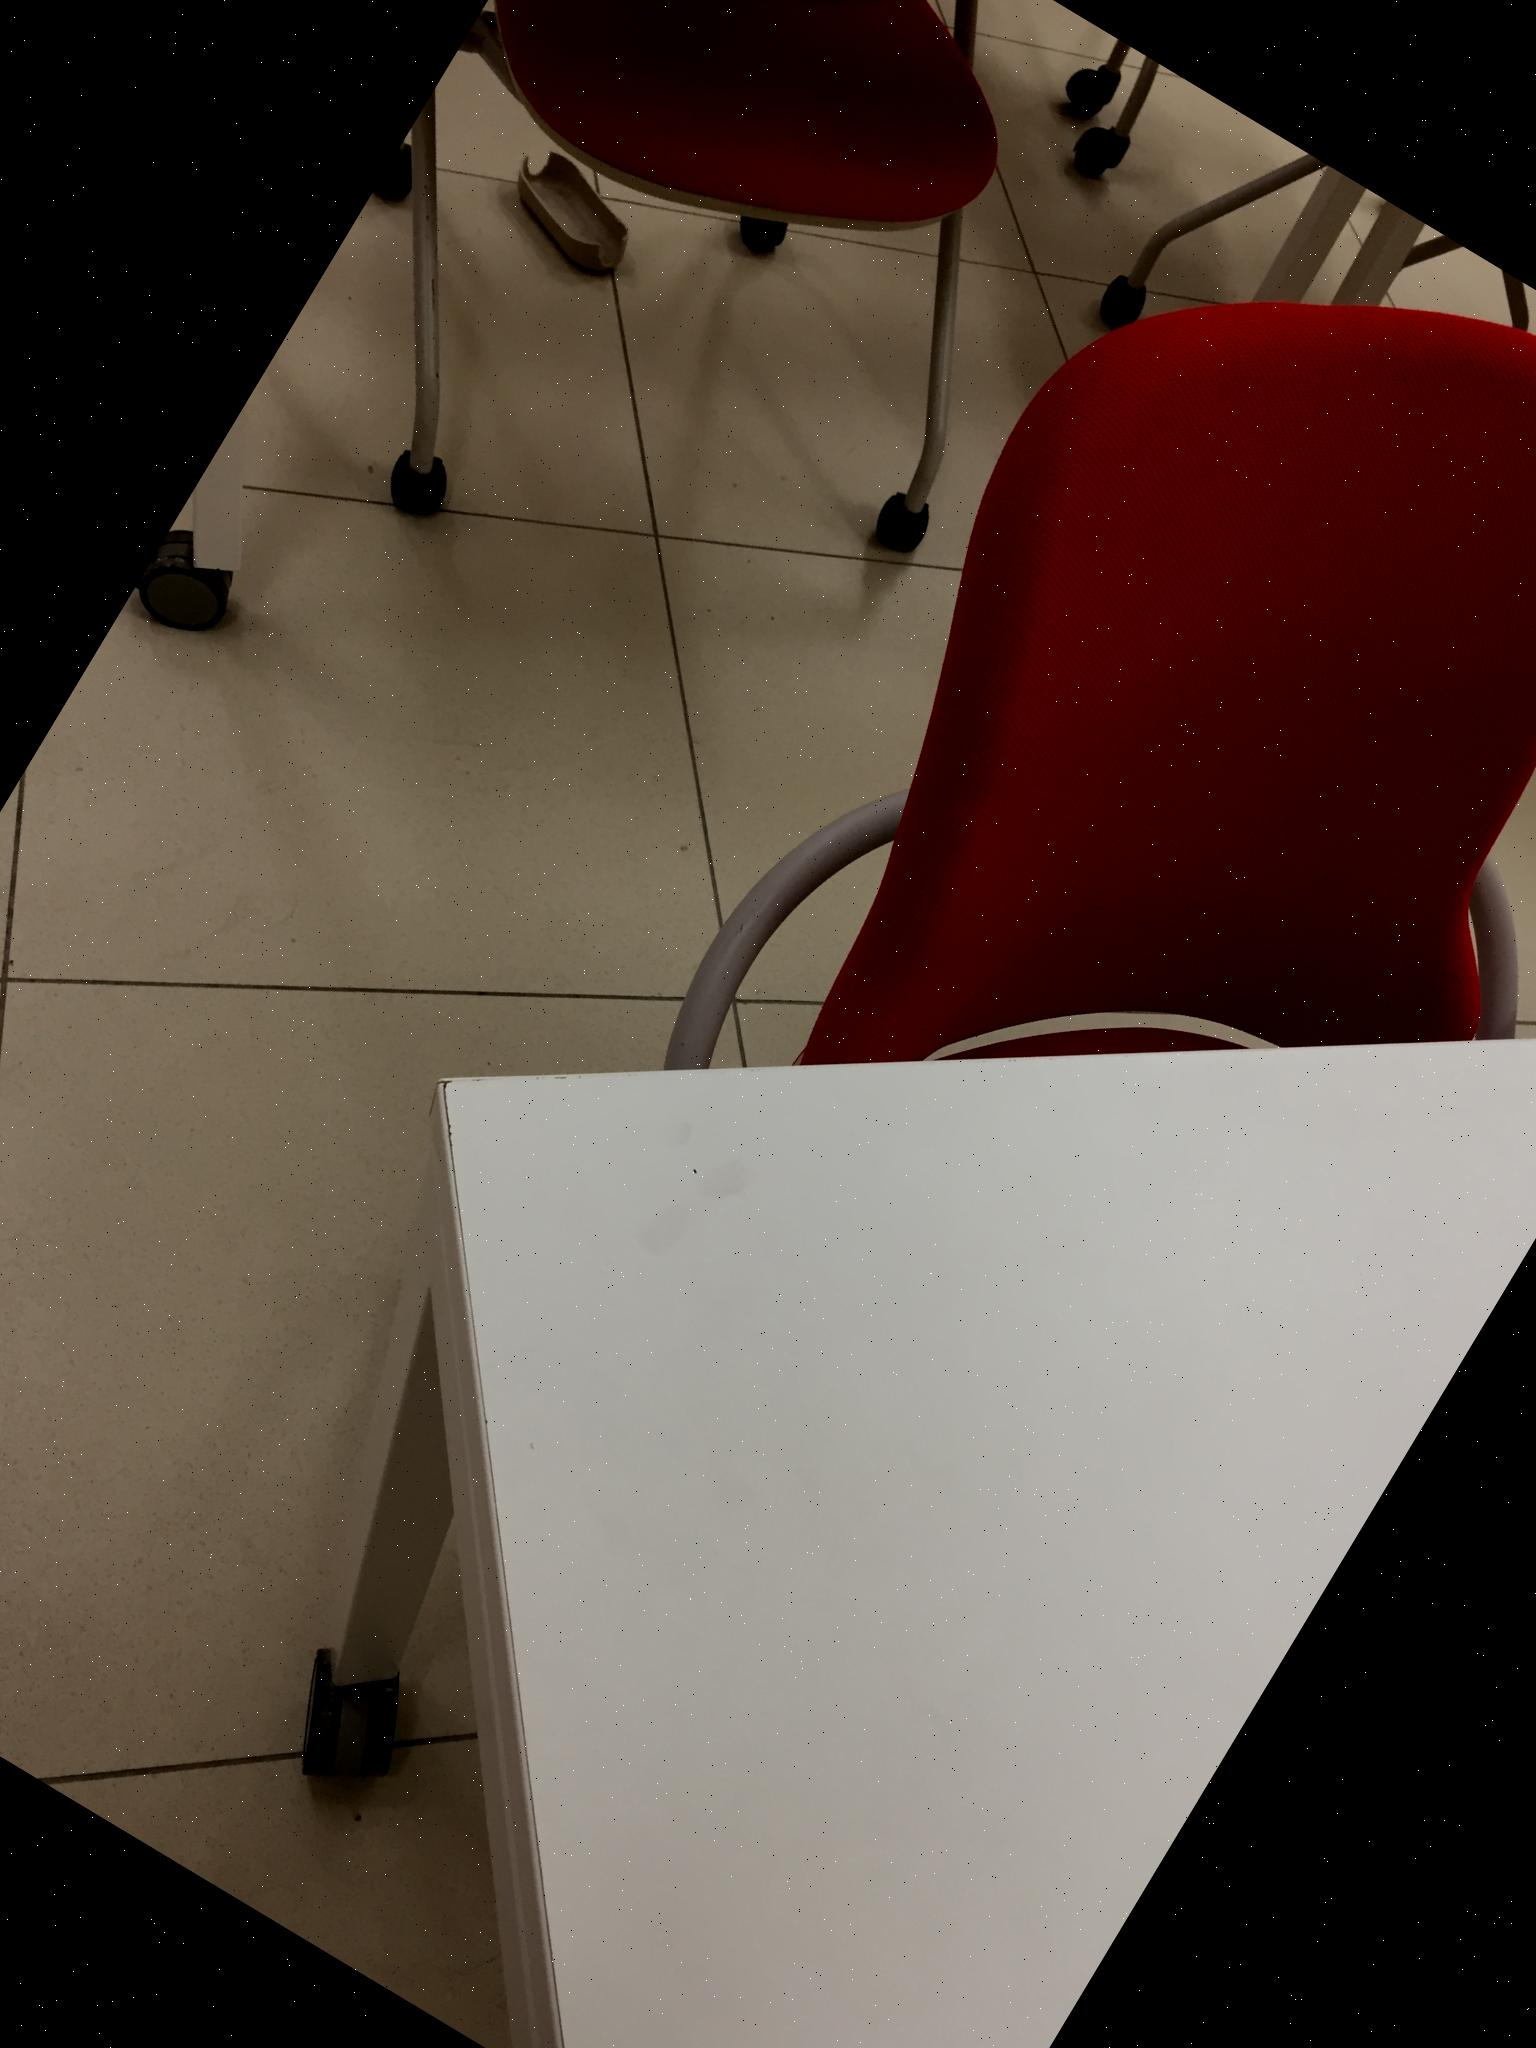chair: (632, 123, 1536, 1437), (216, 0, 1189, 782)
